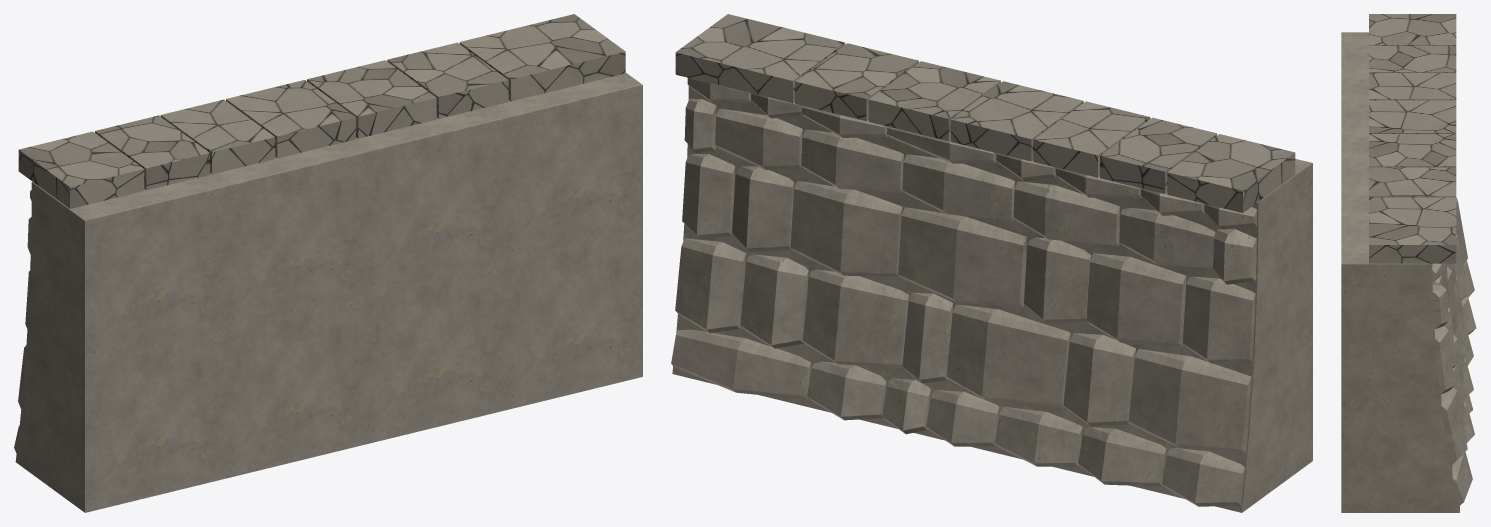
File: HO_Harbour_Quay_16.fbx
3 renders of one model, left to right at view 1: azimuth 30°, elevation 25°; view 2: azimuth 150°, elevation 25°; view 3: azimuth 270°, elevation 25°, orthographic. The views are drawn at different scales.
Visible parts, largest first — view 1: HO_Harbour_Quay_16__Stone_Granite, HO_Harbour_Quay_16__Stone_Fitted; view 2: HO_Harbour_Quay_16__Stone_Granite, HO_Harbour_Quay_16__Stone_Fitted; view 3: HO_Harbour_Quay_16__Stone_Granite, HO_Harbour_Quay_16__Stone_Fitted.
Boxes of the visible parts, x1,y1,x2,y2 form: HO_Harbour_Quay_16__Stone_Granite: (14, 72, 642, 512); HO_Harbour_Quay_16__Stone_Fitted: (18, 14, 625, 208); HO_Harbour_Quay_16__Stone_Granite: (671, 78, 1312, 512); HO_Harbour_Quay_16__Stone_Fitted: (675, 14, 1295, 212); HO_Harbour_Quay_16__Stone_Granite: (1341, 32, 1476, 512); HO_Harbour_Quay_16__Stone_Fitted: (1369, 14, 1456, 263).
Size of the model in its own units: 16 by 8.6 by 3.94.
